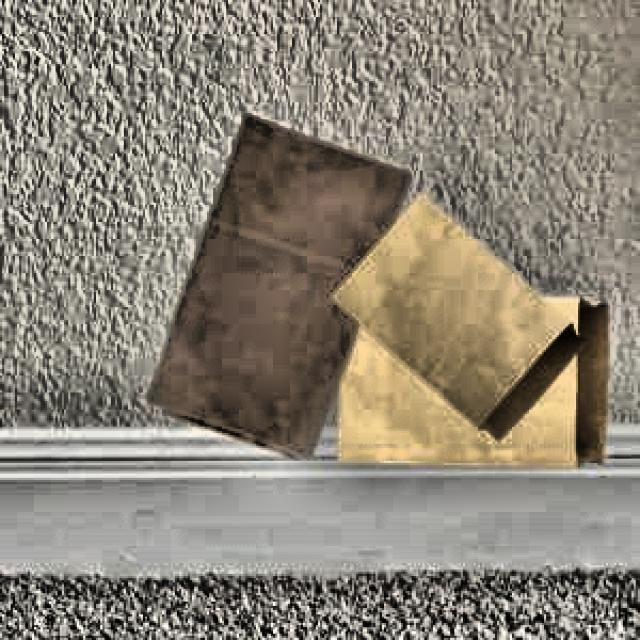Paper-bag: (136, 104, 414, 468), (313, 266, 629, 484), (327, 199, 574, 429)
